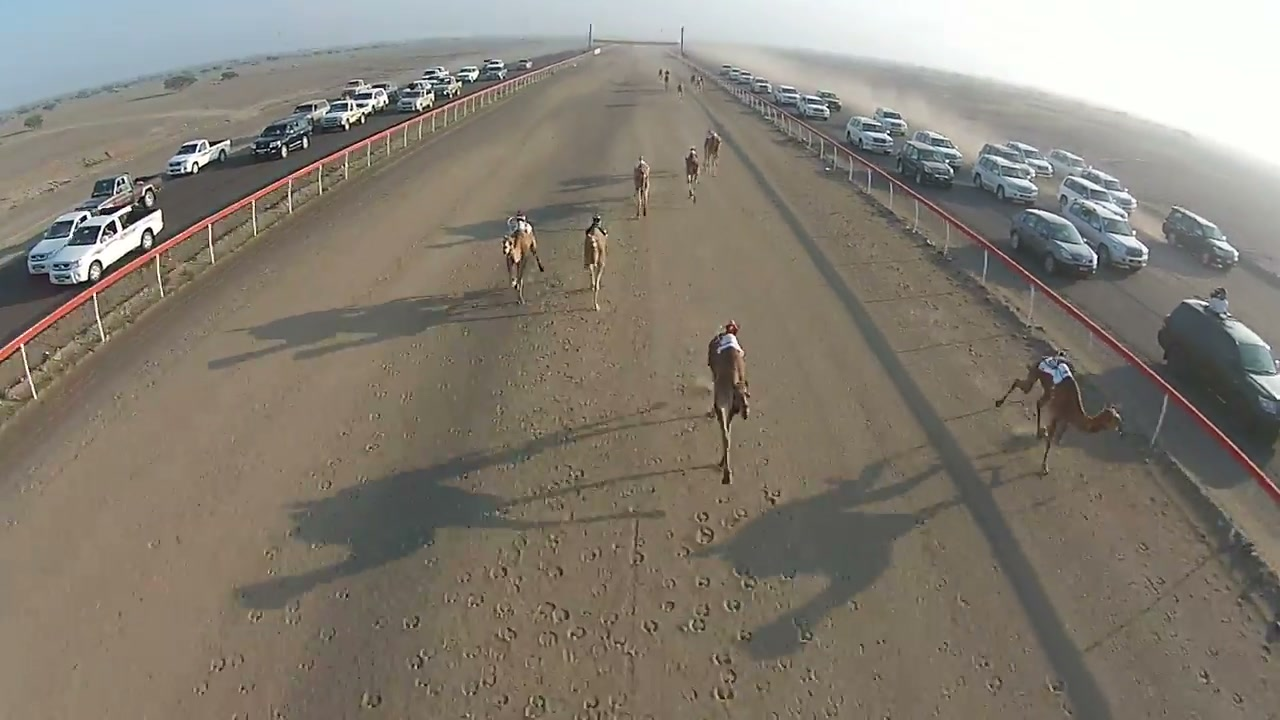animal_footprint: (384, 348, 788, 719)
